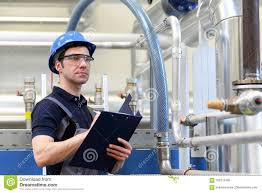Person_wearing_helmet: (44, 26, 95, 73)
